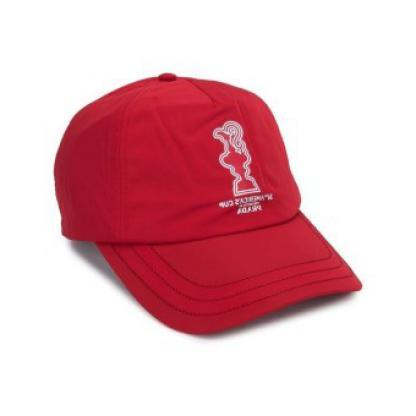cap: (46, 63, 374, 340)
